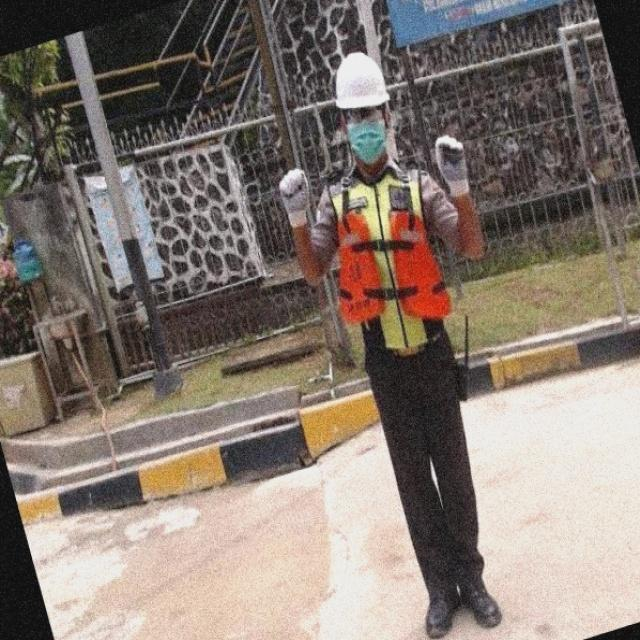helmet: (322, 48, 406, 114)
safety_vest: (328, 168, 458, 352)
